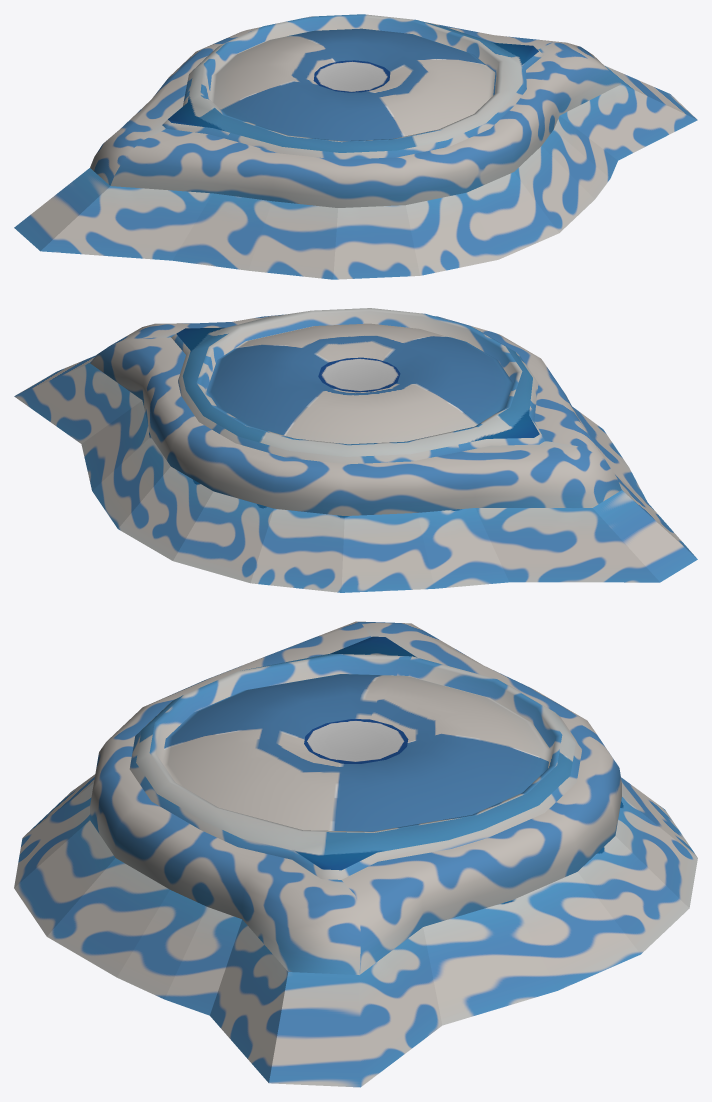
File: S_Vision.fbx
3 renders of one model, top to bottom at view 1: azimuth 30°, elevation 25°; view 2: azimuth 150°, elevation 25°; view 3: azimuth 270°, elevation 25°, orthographic. The views are drawn at different scales.
Visible parts, largest first — view 1: S_Vision; view 2: S_Vision; view 3: S_Vision.
Boxes of the visible parts, bbox=[...] form: S_Vision: bbox=[14, 14, 697, 279]; S_Vision: bbox=[14, 308, 697, 592]; S_Vision: bbox=[14, 621, 697, 1087].
Size of the model in its own units: 815 by 128 by 557.
1 material, 1 textured.
